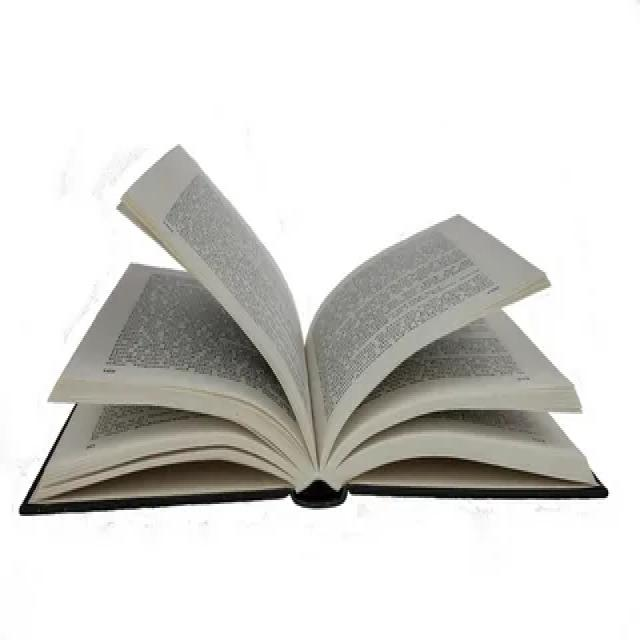book: (17, 120, 621, 537)
